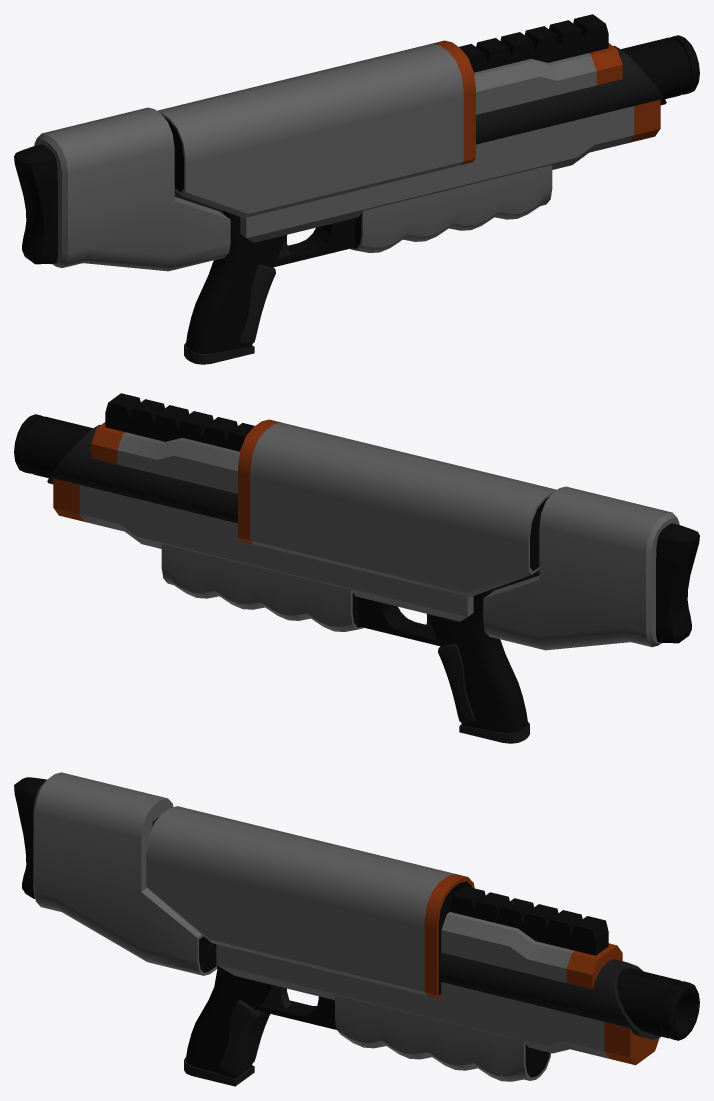
Rendered from Grenade_2.obj.
3 views of the same model, one above another, from view 1: azimuth 30°, elevation 25°; view 2: azimuth 150°, elevation 25°; view 3: azimuth 330°, elevation 25° (orthographic).
Visible parts, largest first — view 1: Grenade_2_Cube.047; view 2: Grenade_2_Cube.047; view 3: Grenade_2_Cube.047.
Part boxes in pixels (x1,y1,x2,y2): Grenade_2_Cube.047: (14, 14, 699, 364); Grenade_2_Cube.047: (14, 393, 699, 743); Grenade_2_Cube.047: (14, 772, 699, 1086).
Bounding box in the file's own units: 1.86 × 0.6803 × 0.1876.
